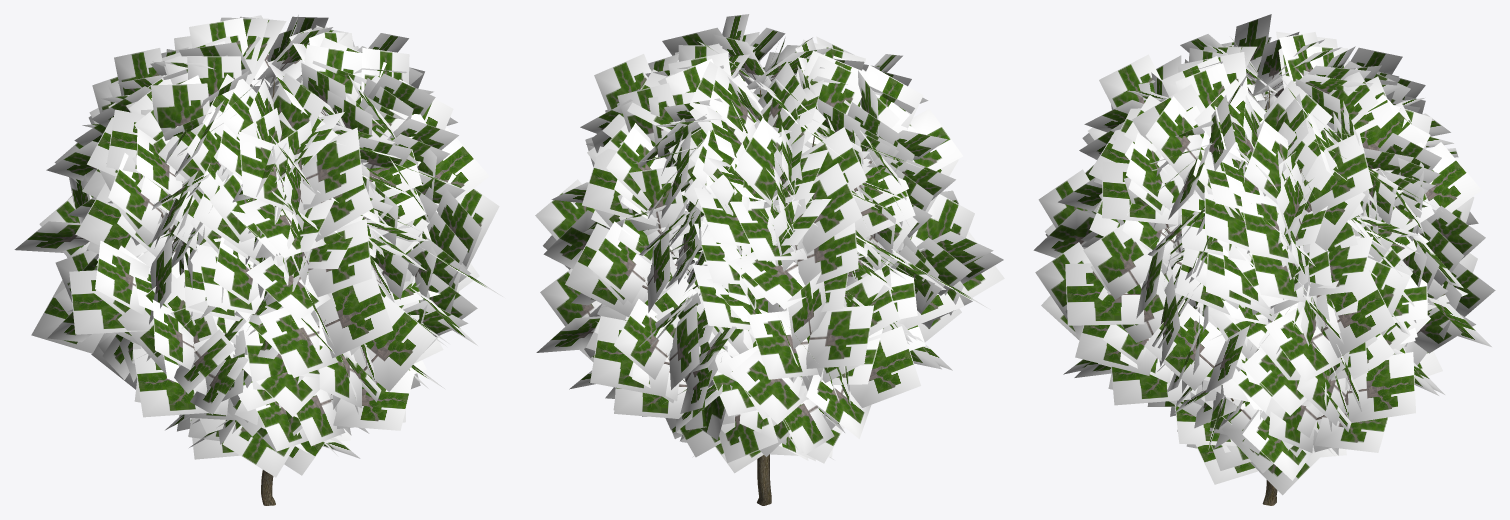
The model's file is tree4.glb.
3 views of the same model, side by side, from view 1: azimuth 30°, elevation 25°; view 2: azimuth 150°, elevation 25°; view 3: azimuth 270°, elevation 25° (orthographic). The views are drawn at different scales.
Parts seen in each view (by area): view 1: Maple_14; view 2: Maple_14; view 3: Maple_14.
Part boxes in pixels (x1,y1,x2,y2): Maple_14: [14, 15, 502, 505]; Maple_14: [535, 14, 1004, 505]; Maple_14: [1033, 14, 1495, 505].
Size of the model in its own units: 11.75 by 12.32 by 11.43.
Materials: 2 (2 with a texture image).
